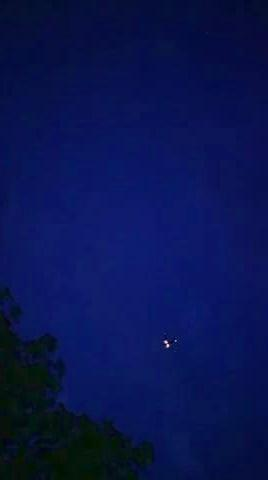Plane: (158, 332, 178, 358)
